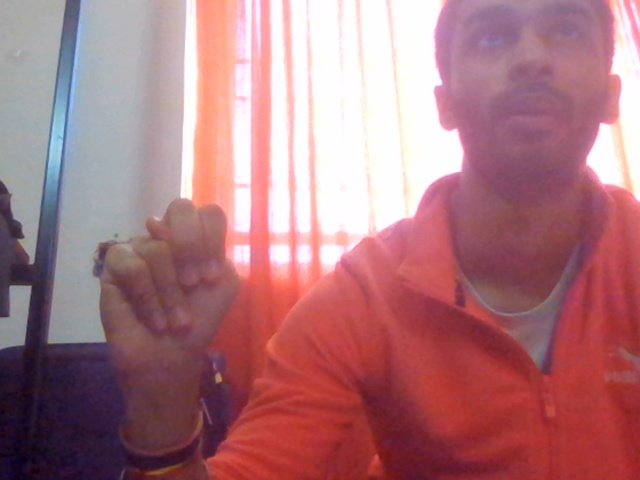N: (69, 148, 262, 427)
